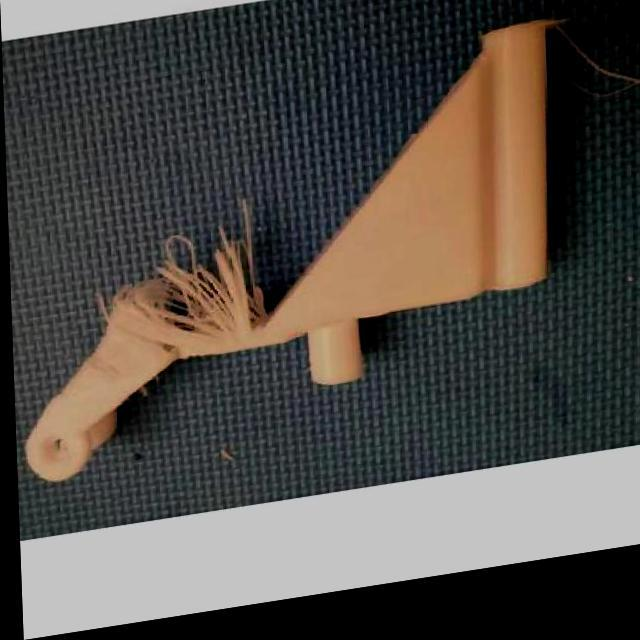spaghetti: (87, 200, 276, 367)
